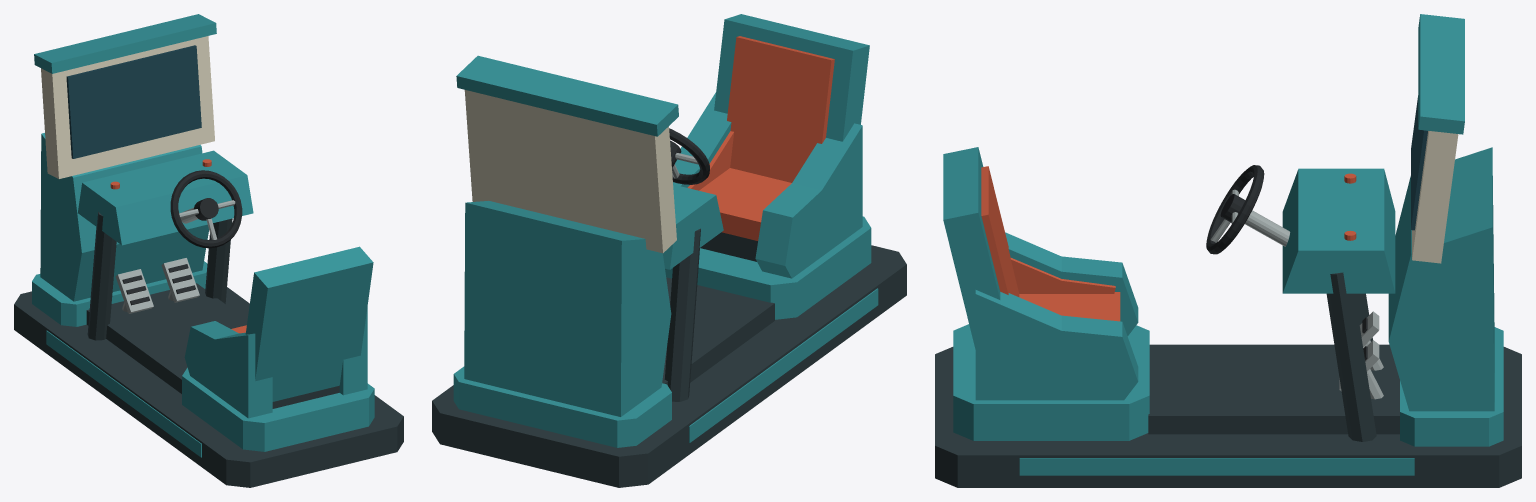
3 renders of one model, left to right at view 1: azimuth 30°, elevation 25°; view 2: azimuth 150°, elevation 25°; view 3: azimuth 270°, elevation 25°, orthographic. The views are drawn at different scales.
Visible parts, largest first — view 1: SharedBase_Continuous, Seat_BackShell, Screen_Runtime, Display_Cabinet, Console_Deck, Seat_LowerShell, Display_BezelHousing, Footwell_Floor, Seat_SideBolster_Left, Display_TopVisor, Console_Support_Left, Display_FootPlinth (+8 smaller); view 2: Display_Cabinet, SharedBase_Continuous, Display_BezelHousing, Seat_BackCushion, Seat_SideBolster_Left, Display_TopVisor, Display_FootPlinth, Seat_LowerShell, Seat_BackShell, Footwell_Floor, Console_Support_Left, Seat_Cushion (+6 smaller); view 3: SharedBase_Continuous, Display_Cabinet, Footwell_Floor, Seat_SideBolster_Right, Console_Deck, Seat_LowerShell, BaseAccent_Right, Seat_BackShell, Display_TopVisor, Display_FootPlinth, Console_Support_Right, Display_BezelHousing (+7 smaller).
Boxes of the visible parts, x1=… form: SharedBase_Continuous: x1=14, y1=287, x2=403, y2=487; Seat_BackShell: x1=245, y1=246, x2=373, y2=401; Screen_Runtime: x1=66, y1=45, x2=201, y2=158; Display_Cabinet: x1=40, y1=133, x2=208, y2=301; Console_Deck: x1=78, y1=150, x2=253, y2=245; Seat_LowerShell: x1=182, y1=367, x2=374, y2=451; Display_BezelHousing: x1=41, y1=36, x2=214, y2=178; Footwell_Floor: x1=86, y1=283, x2=247, y2=393; Seat_SideBolster_Left: x1=184, y1=321, x2=272, y2=418; Display_TopVisor: x1=34, y1=14, x2=216, y2=73; Console_Support_Left: x1=87, y1=211, x2=116, y2=340; Display_FootPlinth: x1=32, y1=261, x2=207, y2=326; Display_Cabinet: x1=464, y1=201, x2=671, y2=416; SharedBase_Continuous: x1=432, y1=245, x2=906, y2=487; Display_BezelHousing: x1=464, y1=90, x2=676, y2=253; Seat_BackCushion: x1=727, y1=36, x2=834, y2=182; Seat_SideBolster_Left: x1=755, y1=123, x2=862, y2=278; Display_TopVisor: x1=456, y1=55, x2=678, y2=136; Display_FootPlinth: x1=453, y1=366, x2=671, y2=447; Seat_LowerShell: x1=665, y1=216, x2=871, y2=319; Seat_BackShell: x1=714, y1=14, x2=869, y2=141; Footwell_Floor: x1=662, y1=277, x2=774, y2=385; Console_Support_Left: x1=664, y1=228, x2=700, y2=401; Seat_Cushion: x1=699, y1=168, x2=791, y2=240; SharedBase_Continuous: x1=935, y1=344, x2=1521, y2=487; Display_Cabinet: x1=1388, y1=147, x2=1494, y2=411; Footwell_Floor: x1=1148, y1=347, x2=1399, y2=434; Seat_SideBolster_Right: x1=975, y1=290, x2=1138, y2=400; Console_Deck: x1=1282, y1=168, x2=1395, y2=293; Seat_LowerShell: x1=953, y1=324, x2=1149, y2=440; BaseAccent_Right: x1=1019, y1=458, x2=1414, y2=475; Seat_BackShell: x1=943, y1=147, x2=1000, y2=349; Display_TopVisor: x1=1418, y1=14, x2=1464, y2=134; Display_FootPlinth: x1=1400, y1=327, x2=1503, y2=446; Console_Support_Right: x1=1326, y1=272, x2=1376, y2=441; Display_BezelHousing: x1=1412, y1=131, x2=1458, y2=263.
Bounding box in the file's own units: 1.17 × 1.8 × 2.6.
